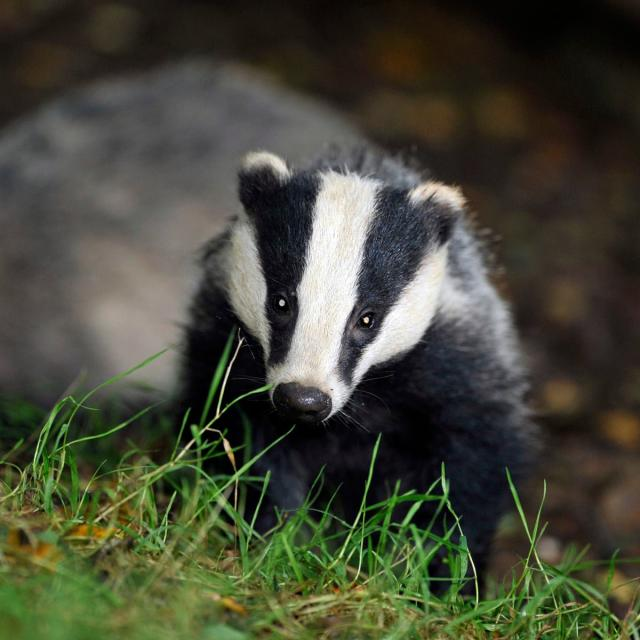Badger: (171, 130, 560, 597)
